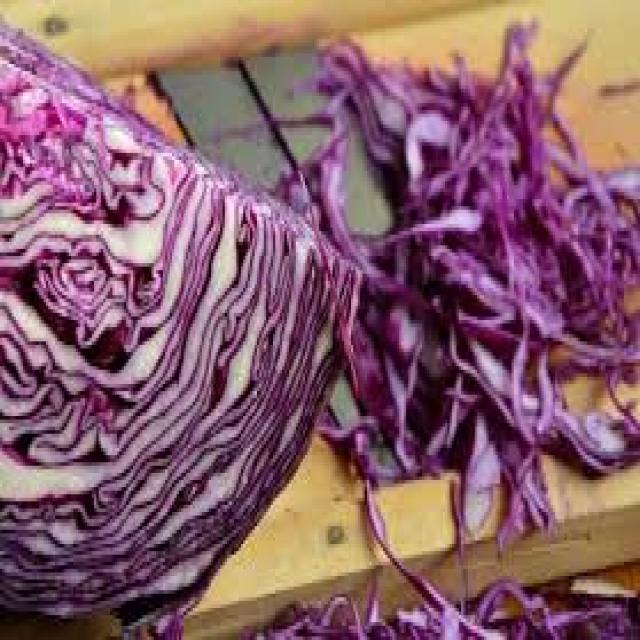organic waste: (0, 7, 356, 637), (420, 224, 638, 366), (472, 316, 638, 469), (459, 299, 557, 558), (213, 103, 367, 260), (326, 263, 450, 455), (314, 32, 473, 171), (362, 484, 504, 636), (468, 11, 546, 213), (436, 342, 509, 540), (394, 92, 480, 256), (356, 206, 486, 288), (369, 576, 516, 636), (479, 590, 638, 636), (557, 164, 638, 245), (323, 406, 406, 484), (541, 100, 592, 188), (461, 416, 498, 533), (324, 594, 422, 636), (443, 484, 470, 636), (245, 604, 351, 636), (544, 25, 580, 114)
